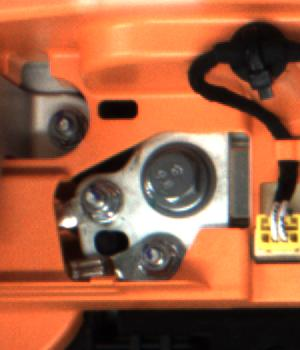nut_b: (134, 124, 222, 223)
screw_s: (138, 239, 181, 276), (81, 179, 115, 220), (48, 110, 82, 144)
